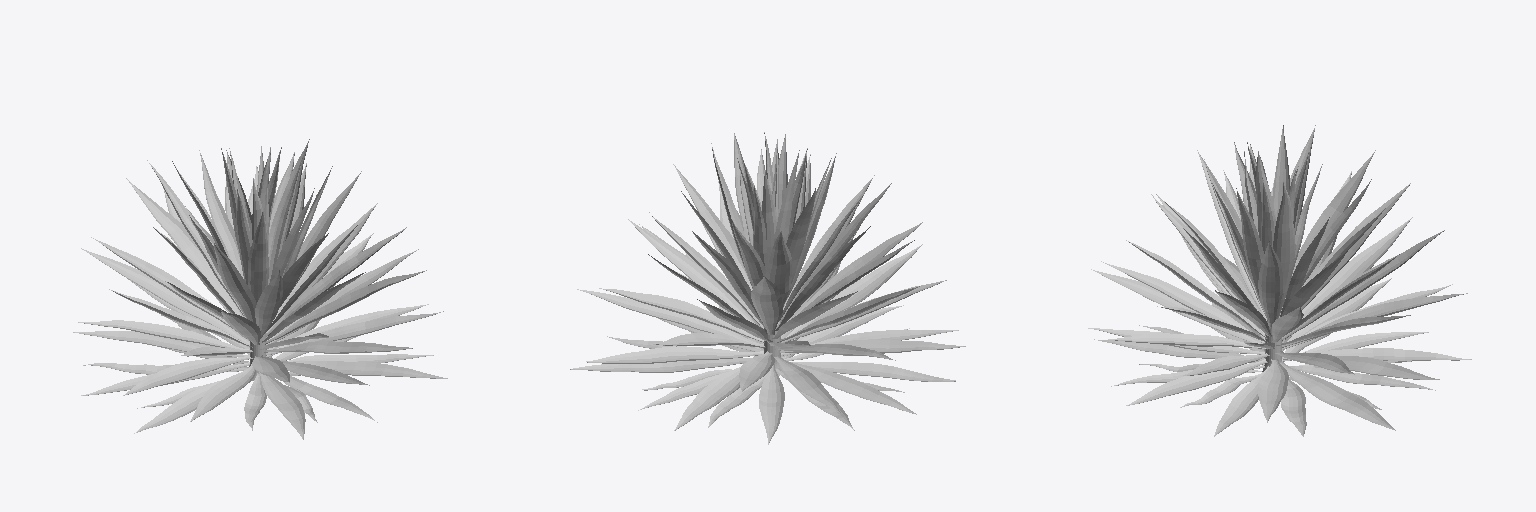
File: var1.obj
The picture shows the model from 3 angles: view 1: azimuth 30°, elevation 25°; view 2: azimuth 150°, elevation 25°; view 3: azimuth 270°, elevation 25°; orthographic projection.
Parts seen in each view (by area): view 1: var1; view 2: var1; view 3: var1.
Part boxes in pixels (left/top/right/bottom): var1: left=73, top=139, right=447, bottom=439; var1: left=570, top=132, right=965, bottom=444; var1: left=1088, top=125, right=1471, bottom=436.
Size of the model in its own units: 3.73 by 2.48 by 3.71.